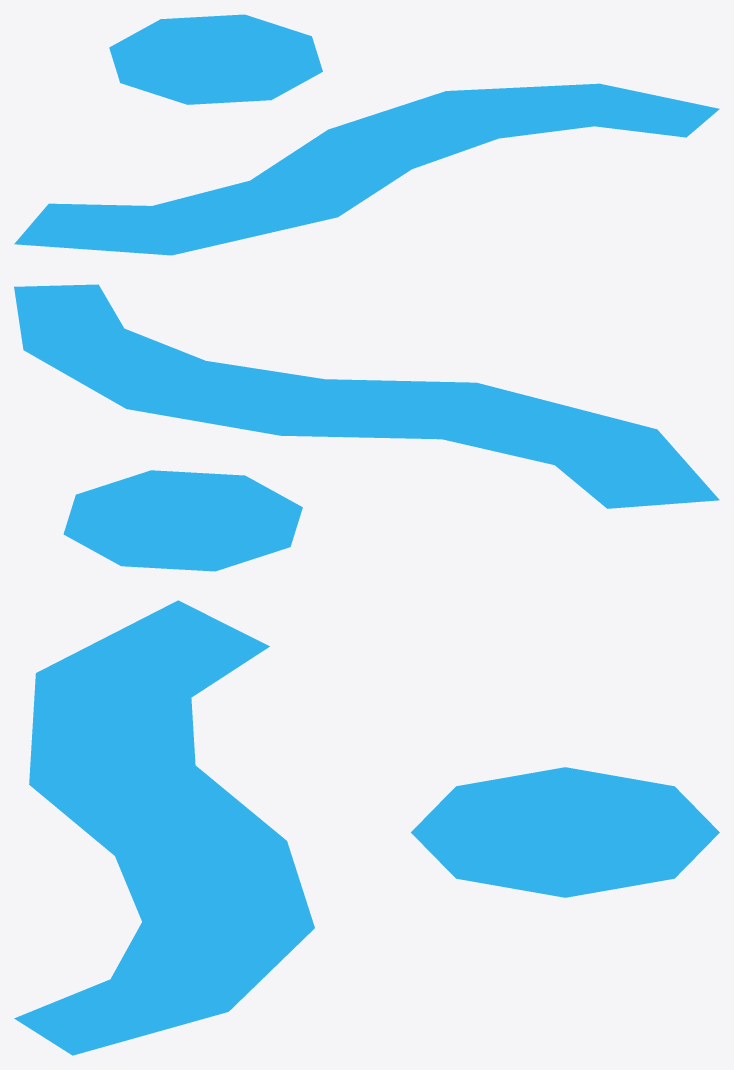
The model's file is hieroglyph_010.glb.
3 renders of one model, top to bottom at view 1: azimuth 30°, elevation 25°; view 2: azimuth 150°, elevation 25°; view 3: azimuth 270°, elevation 25°, orthographic. The views are drawn at different scales.
Parts seen in each view (by area): view 1: hieroglyph_010; view 2: hieroglyph_010; view 3: hieroglyph_010.
Boxes of the visible parts, x1,y1,x2,y2 form: hieroglyph_010: (14,14,719,255); hieroglyph_010: (14,284,719,571); hieroglyph_010: (14,600,719,1055).
Size of the model in its own units: 0.6746 by 0 by 0.442.
1 material, 1 textured.
